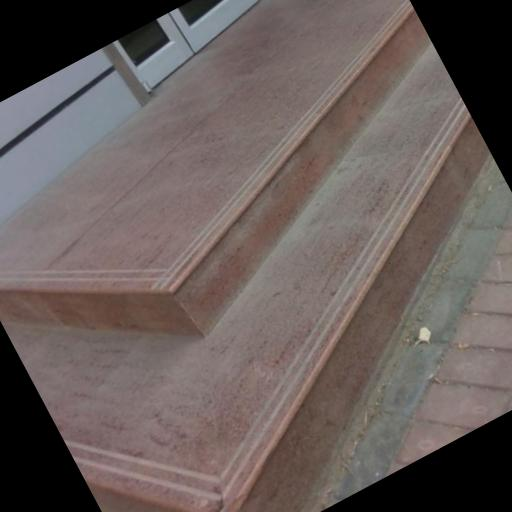stairs: (0, 0, 489, 511), (0, 0, 430, 337)
